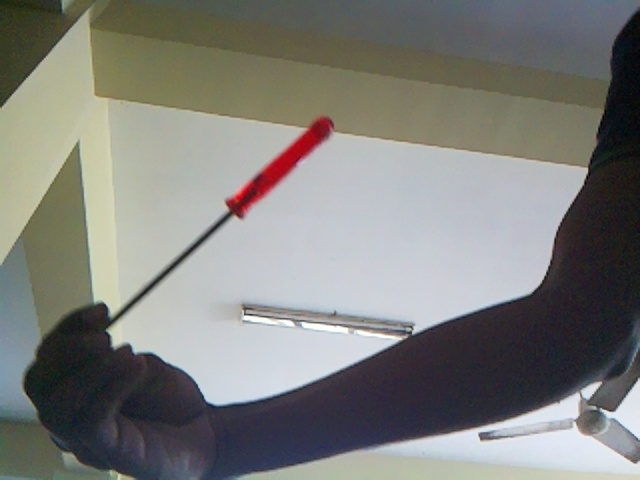redskrew: (101, 111, 336, 339)
